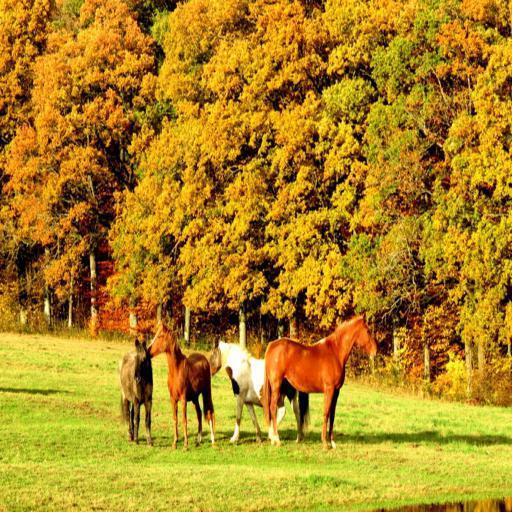horse: (263, 308, 378, 450), (210, 338, 288, 449), (150, 320, 216, 448), (120, 337, 152, 448)
